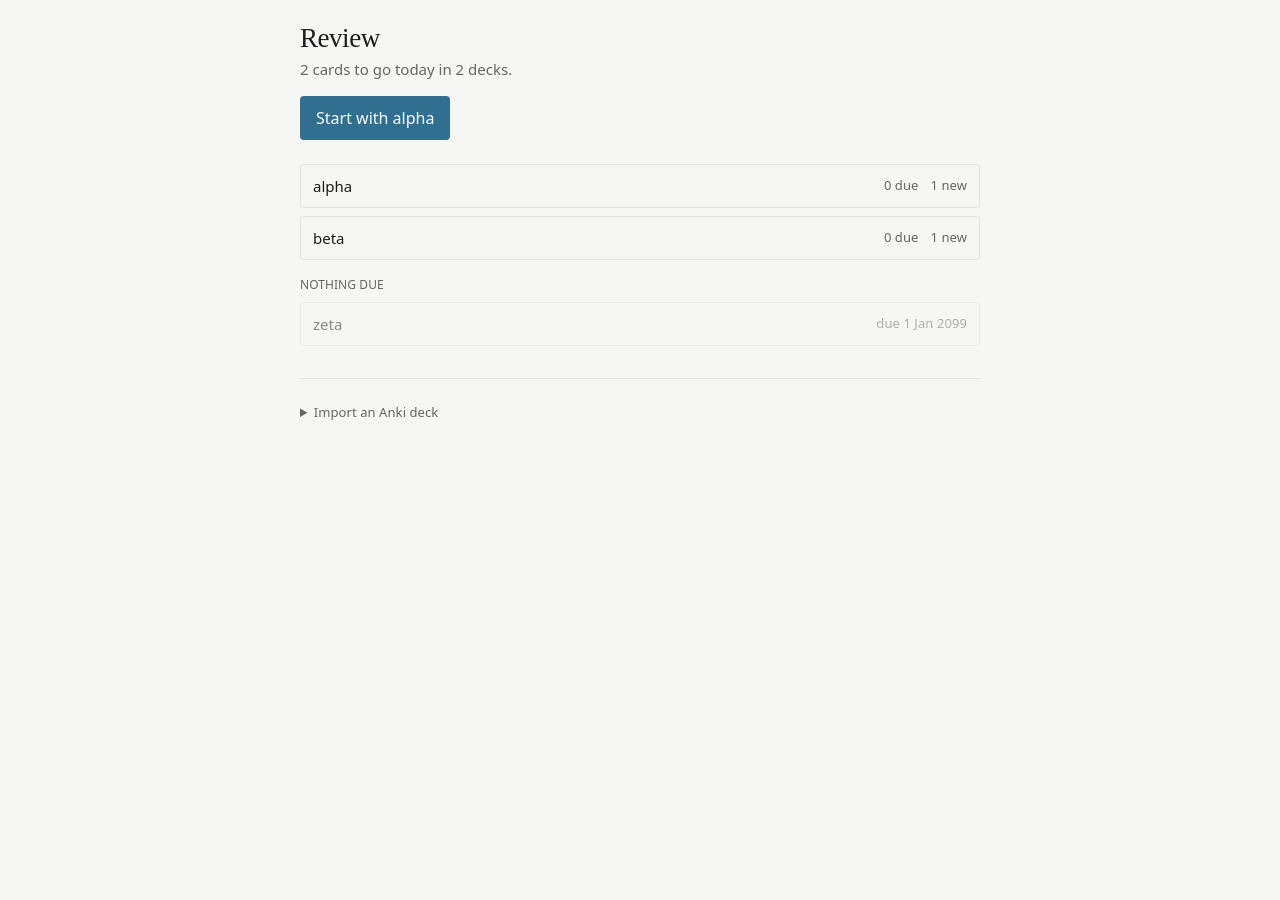
a sitting whose daily limits read failed for good can try again (#1167) › #1167 I3 Enter on the focused limits Try again in the review pane reads the limits again
Expected: the button "alpha 0 due 1 new" is shown, [300,164,980,208]
Press j in the element labelled "Review"
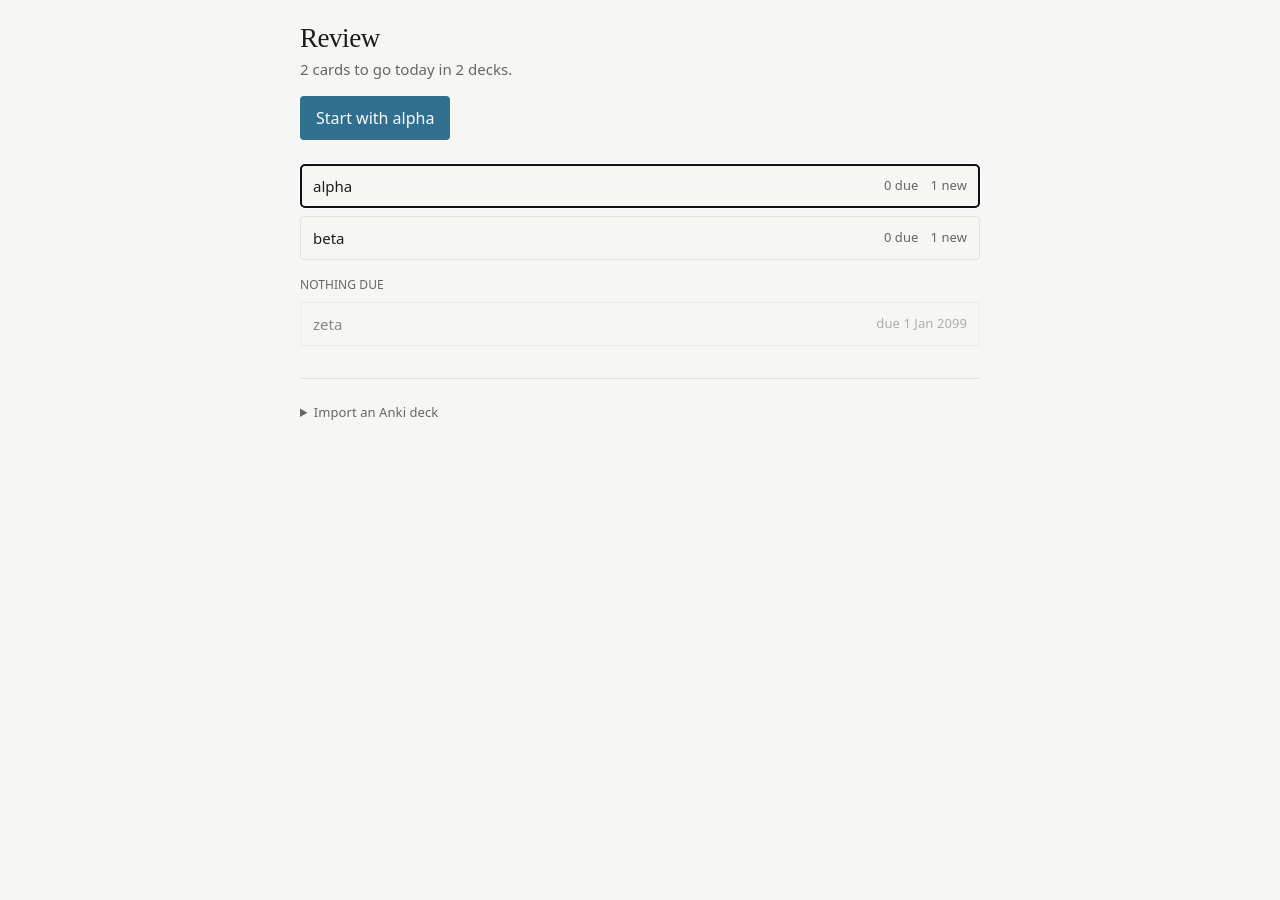
Press j in the element labelled "Review"
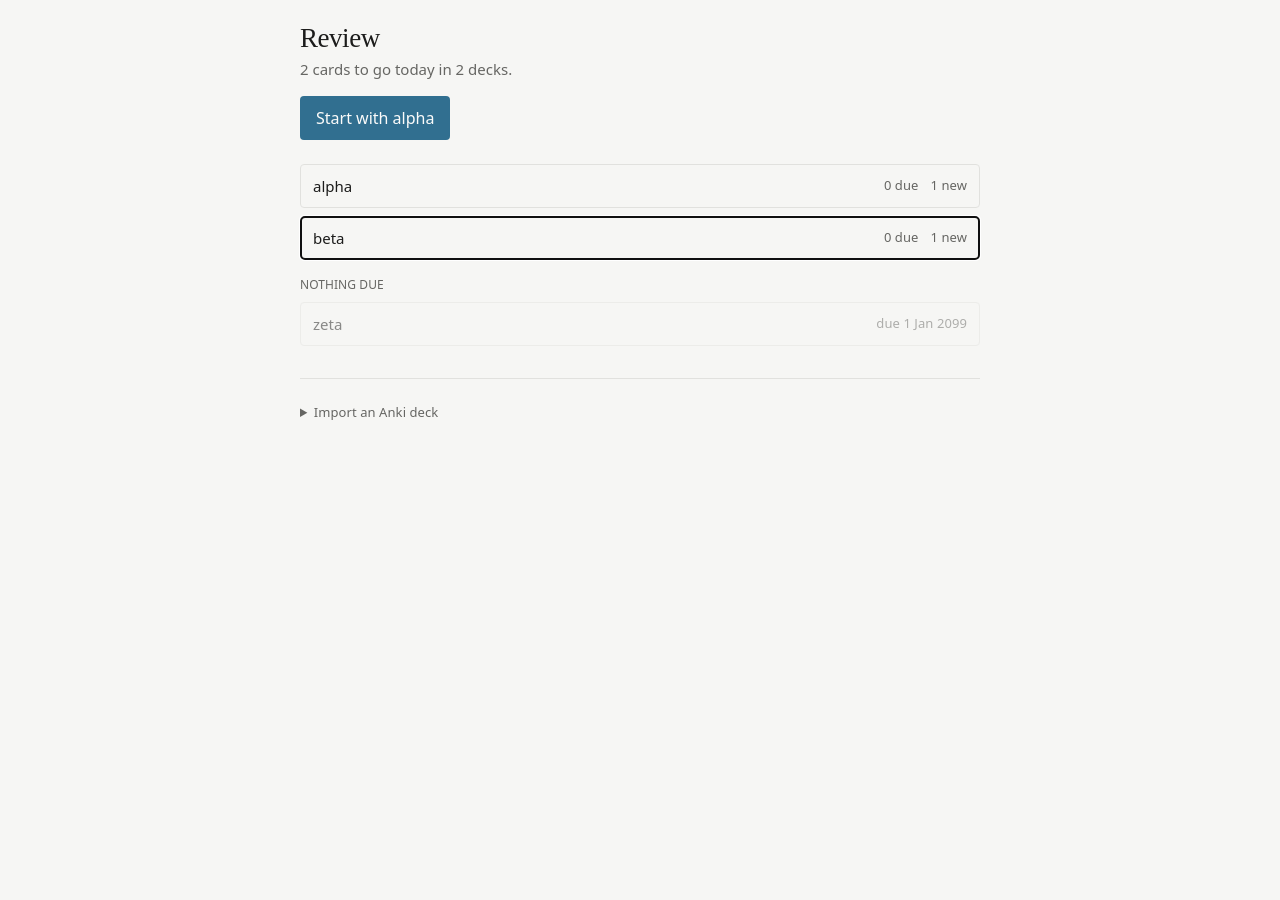
Press l in the element labelled "Review"
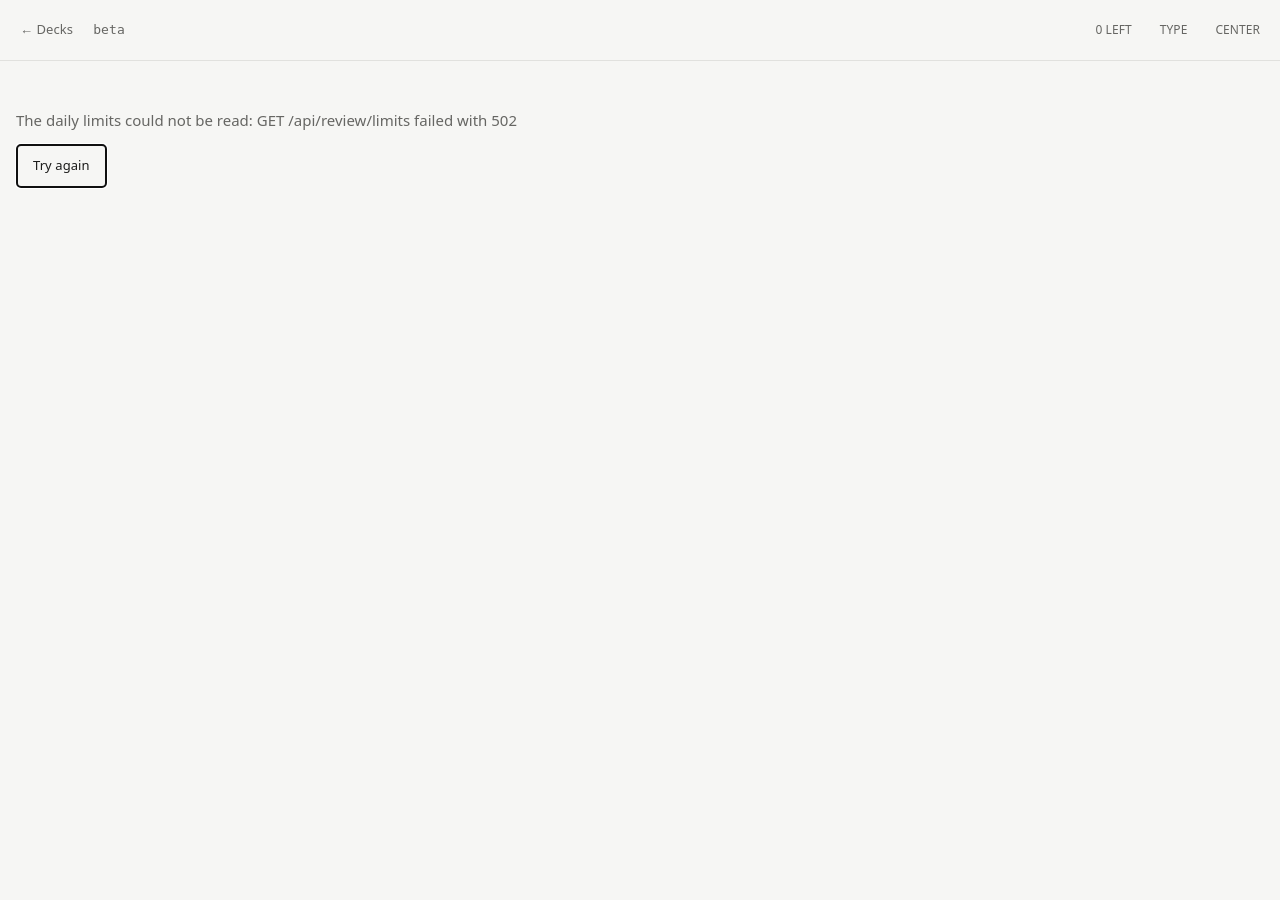
Note: The pane leaves a button's Enter to the browser, which then clicks it.
Press Enter in the button "Try again", box [16,144,107,188]
Click the button "Try again" at point(61, 166), box [16,144,107,188]
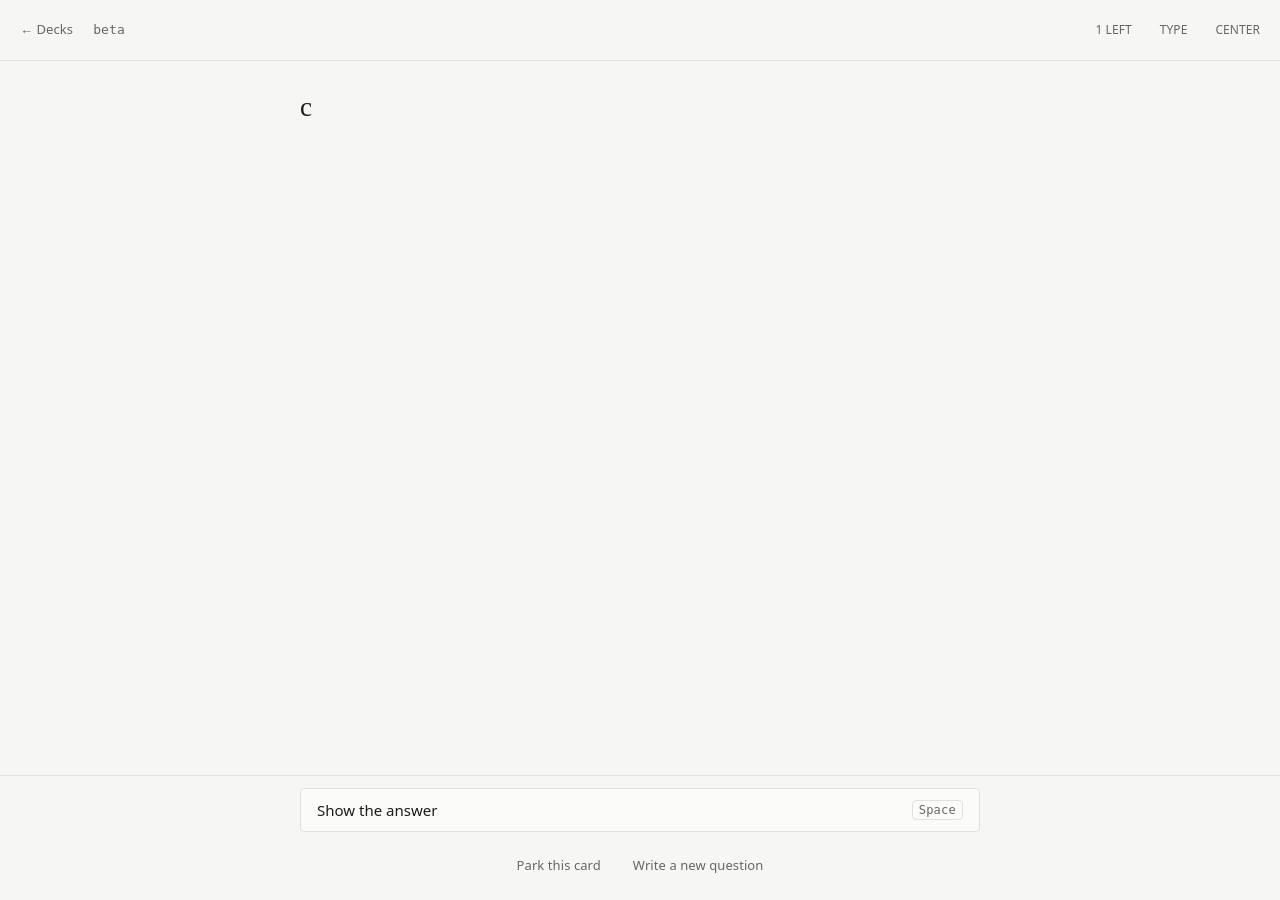
Now the element with test id "review-card" reads "c", box [300,92,312,122]
